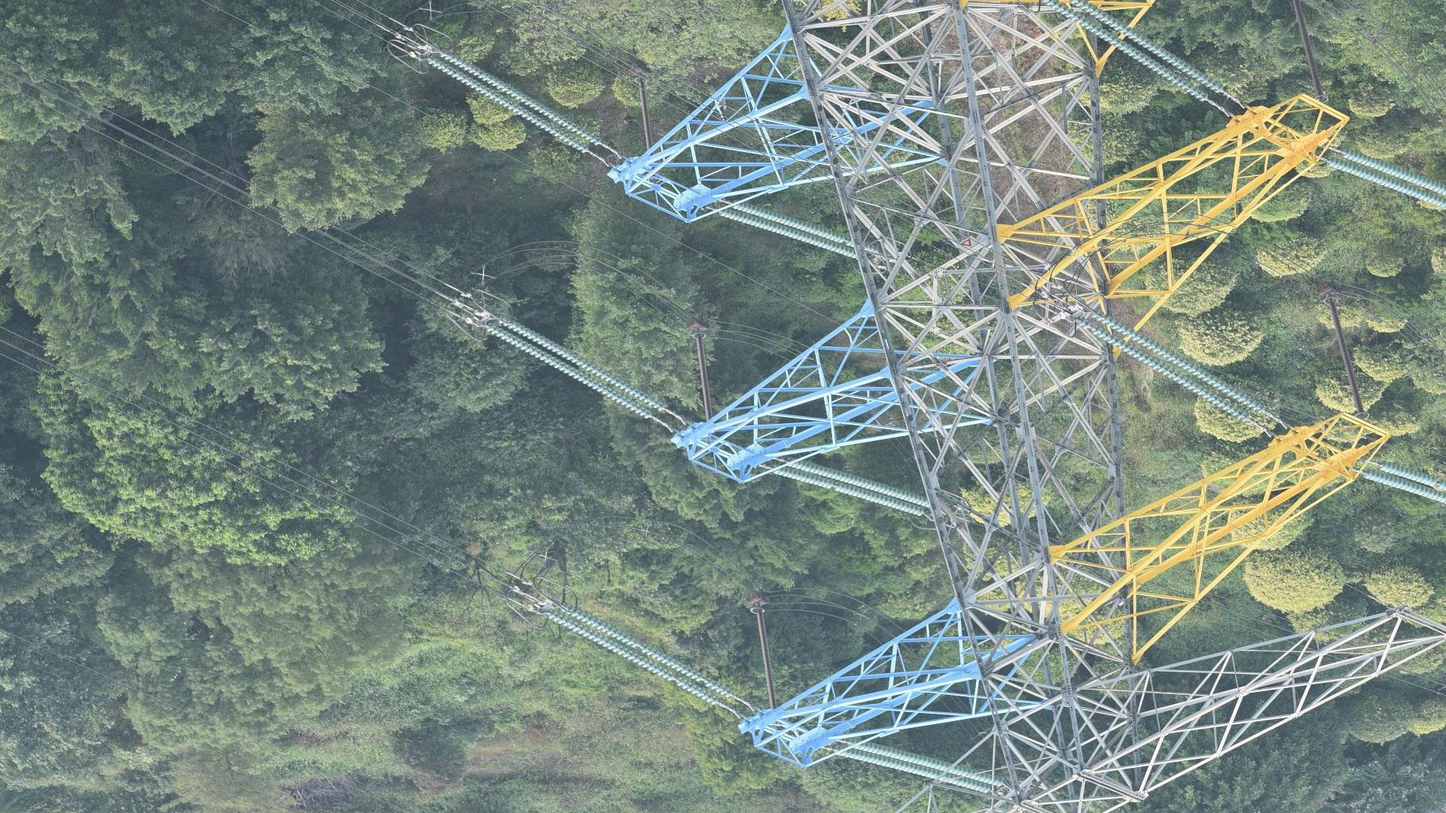insulator: (1082, 310, 1270, 425), (545, 600, 734, 708), (485, 315, 670, 421), (1042, 1, 1225, 104), (426, 50, 603, 155), (718, 199, 880, 263), (831, 737, 1006, 796), (772, 456, 932, 519), (1326, 146, 1446, 210), (1326, 298, 1365, 413), (1362, 458, 1446, 508), (1292, 1, 1326, 99), (755, 609, 779, 711), (694, 334, 715, 421), (637, 80, 653, 149)
insulator_stringdrop: (694, 671, 715, 689), (667, 669, 687, 687), (628, 638, 650, 654), (1081, 320, 1103, 336), (1429, 475, 1446, 491), (825, 478, 843, 493), (837, 232, 853, 248)
